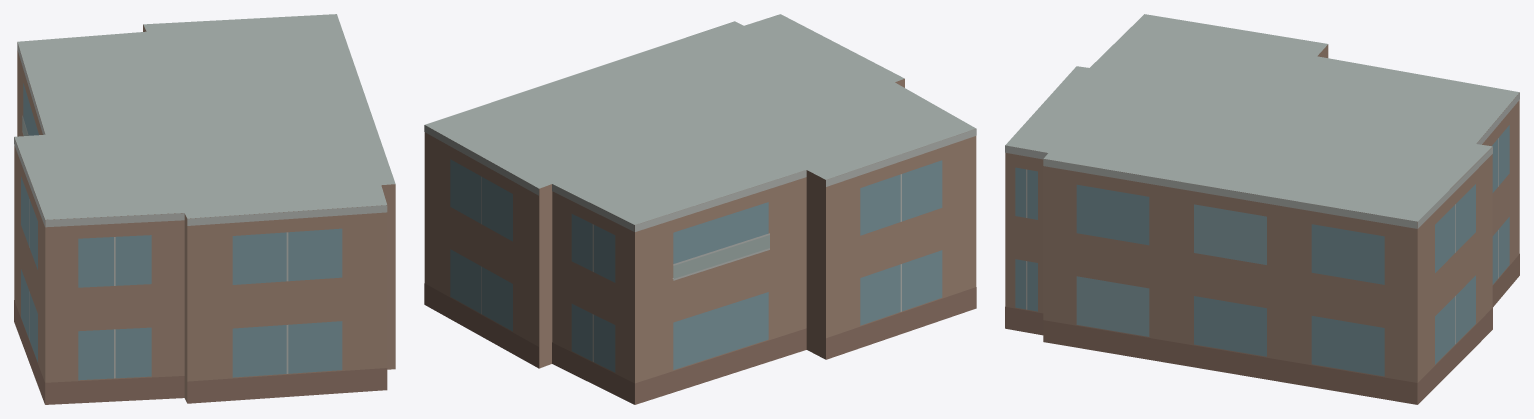
File: survey-upis-32745960.glb
3 views of the same model, side by side, from view 1: azimuth 30°, elevation 25°; view 2: azimuth 150°, elevation 25°; view 3: azimuth 270°, elevation 25° (orthographic). The views are drawn at different scales.
Parts seen in each view (by area): view 1: survey-upis-32745960.tmp; view 2: survey-upis-32745960.tmp; view 3: survey-upis-32745960.tmp.
Part boxes in pixels (x1,y1,x2,y2): survey-upis-32745960.tmp: (14, 14, 395, 404); survey-upis-32745960.tmp: (424, 14, 976, 404); survey-upis-32745960.tmp: (1005, 14, 1519, 404).
Bounding box in the file's own units: 14.84 × 6.1 × 15.54.
